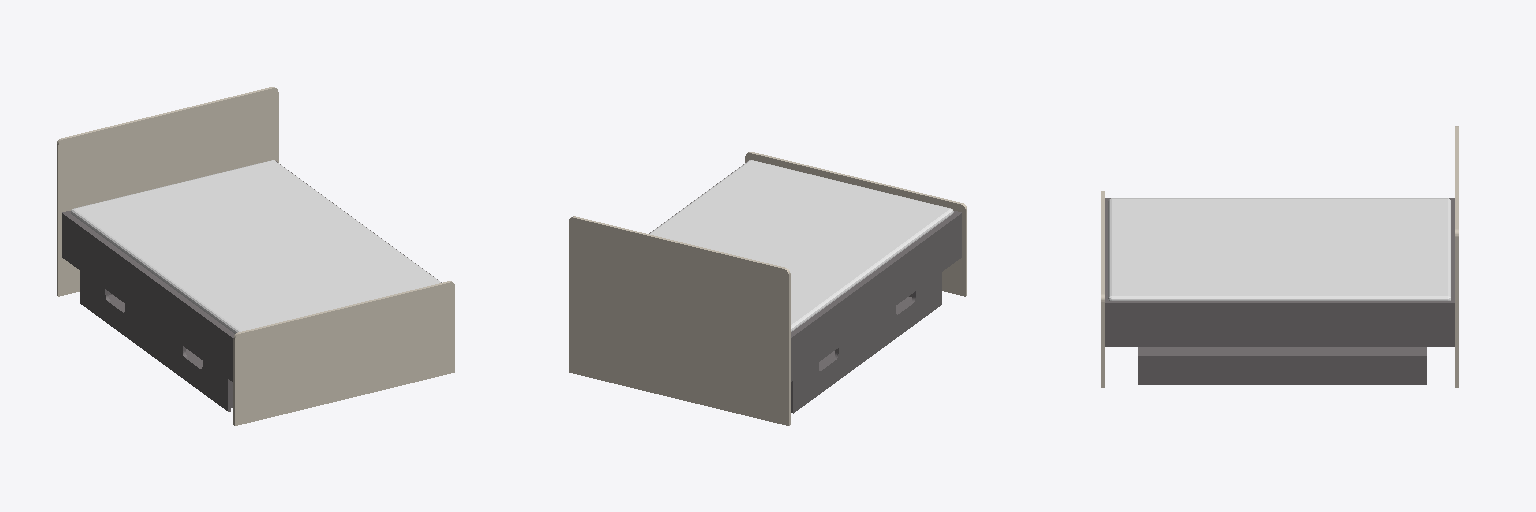
File: 2pir_lozko2os_plaski_szczyt_140.obj
3 views of the same model, side by side, from view 1: azimuth 30°, elevation 25°; view 2: azimuth 150°, elevation 25°; view 3: azimuth 270°, elevation 25° (orthographic).
Visible parts, largest first — view 1: ChamferBox01, Rectangle16, Rectangle17, Box02, Rectangle01; view 2: Rectangle17, ChamferBox01, Box02, Rectangle01, Rectangle16; view 3: ChamferBox01, Box02, Box01, Rectangle17, Rectangle16.
Boxes of the visible parts, x1=… form: ChamferBox01: x1=71, y1=160, x2=440, y2=333; Rectangle16: x1=233, y1=281, x2=454, y2=425; Rectangle17: x1=57, y1=87, x2=278, y2=296; Box02: x1=62, y1=161, x2=441, y2=381; Rectangle01: x1=80, y1=271, x2=230, y2=411; Rectangle17: x1=569, y1=216, x2=790, y2=425; ChamferBox01: x1=650, y1=160, x2=953, y2=331; Box02: x1=649, y1=161, x2=961, y2=381; Rectangle01: x1=791, y1=272, x2=941, y2=413; Rectangle16: x1=745, y1=152, x2=966, y2=296; ChamferBox01: x1=1108, y1=198, x2=1450, y2=300; Box02: x1=1105, y1=198, x2=1454, y2=346; Box01: x1=1138, y1=347, x2=1426, y2=384; Rectangle17: x1=1455, y1=126, x2=1458, y2=387; Rectangle16: x1=1101, y1=191, x2=1104, y2=387.
Size of the model in its own units: 145 by 98.06 by 203.